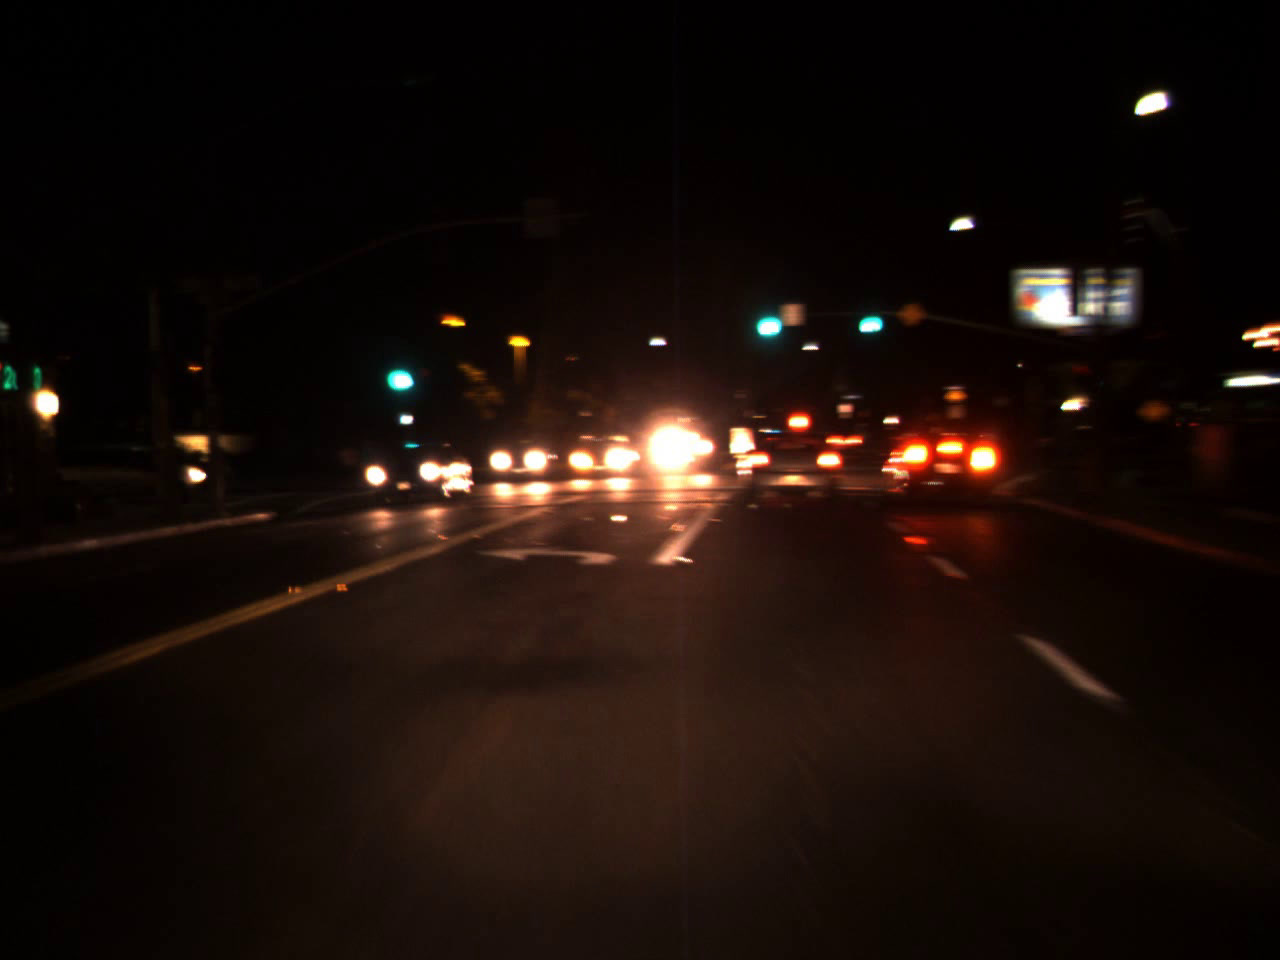go: (376, 342, 419, 399), (746, 295, 787, 340), (849, 295, 888, 340)
